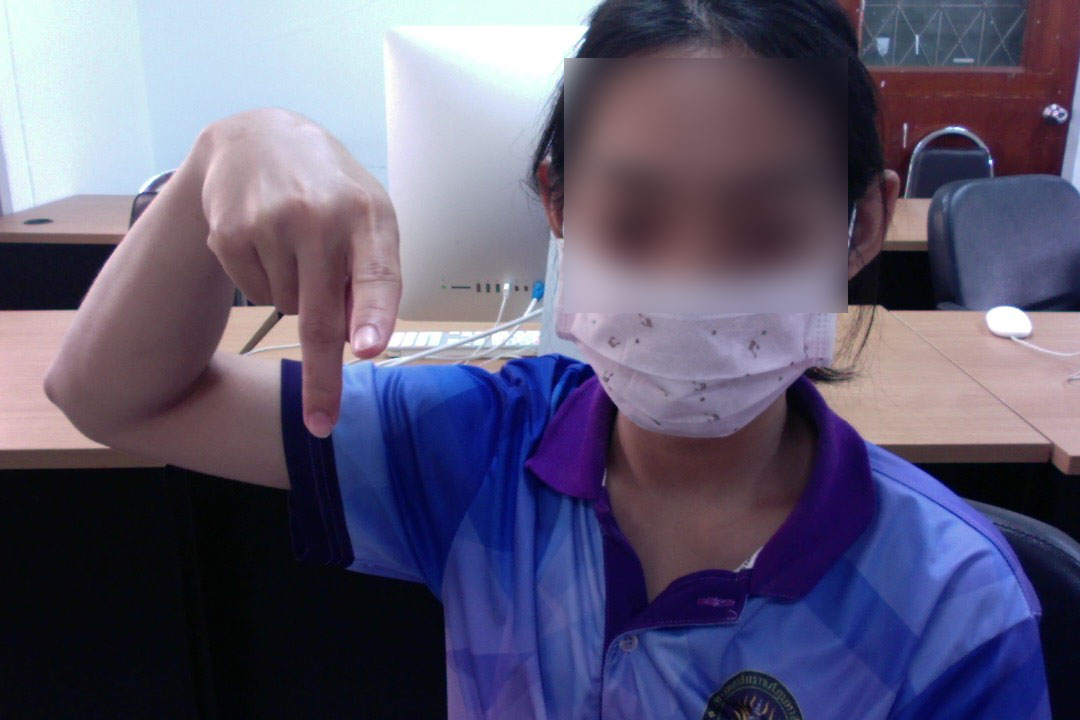por: (175, 90, 407, 448)
